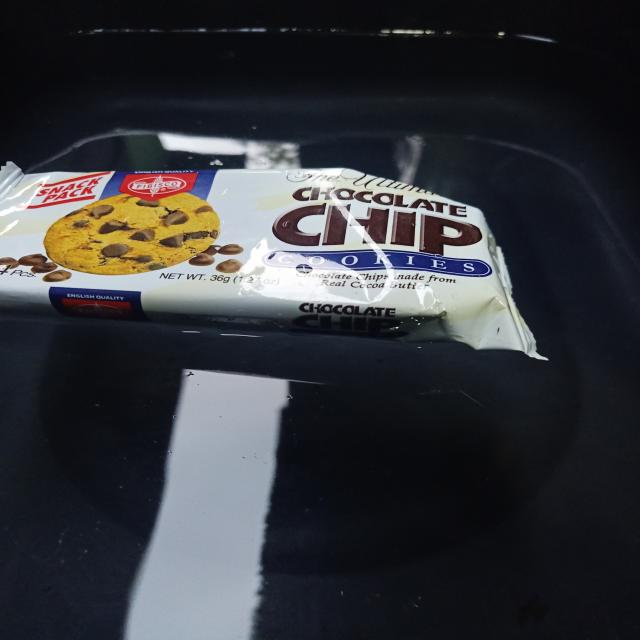Plastic Wrapper: (3, 160, 558, 377)
